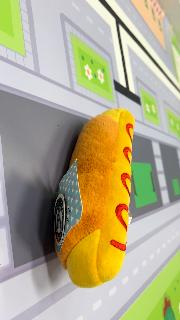hotdog: (52, 108, 136, 288)
